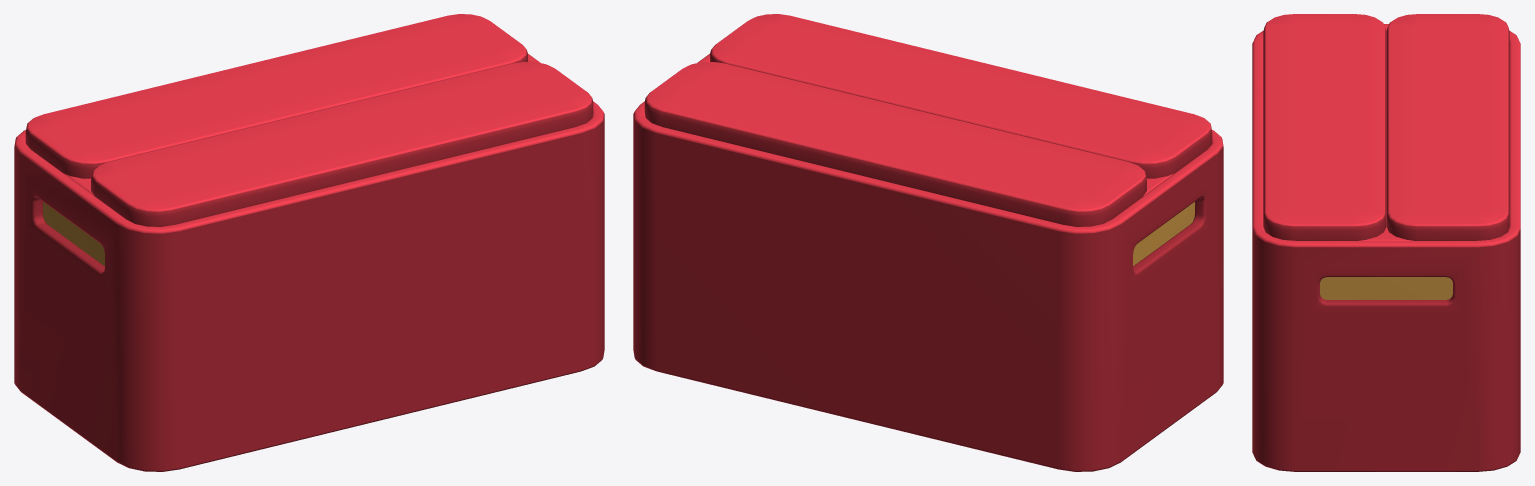
3 renders of one model, left to right at view 1: azimuth 30°, elevation 25°; view 2: azimuth 150°, elevation 25°; view 3: azimuth 270°, elevation 25°, orthographic. The views are drawn at different scales.
Visible parts, largest first — view 1: box10_color, top1_R, top1_L, box10_inner; view 2: box10_color, top1_L, top1_R, box10_inner; view 3: box10_color, top1_L, top1_R, box10_inner, top2_R.
Part boxes in pixels (left/top/right/bottom): box10_color: left=14, top=54, right=604, bottom=471; top1_R: left=91, top=62, right=593, bottom=226; top1_L: left=25, top=14, right=527, bottom=178; box10_inner: left=43, top=202, right=104, bottom=266; box10_color: left=633, top=54, right=1223, bottom=471; top1_L: left=644, top=62, right=1146, bottom=226; top1_R: left=710, top=14, right=1212, bottom=178; box10_inner: left=1133, top=202, right=1194, bottom=266; box10_color: left=1252, top=24, right=1520, bottom=471; top1_L: left=1386, top=14, right=1509, bottom=240; top1_R: left=1263, top=14, right=1386, bottom=240; box10_inner: left=1320, top=277, right=1452, bottom=299; top2_R: left=1359, top=136, right=1413, bottom=240.
Bounding box in the file's own units: 25.5 × 13.04 × 13.04.
